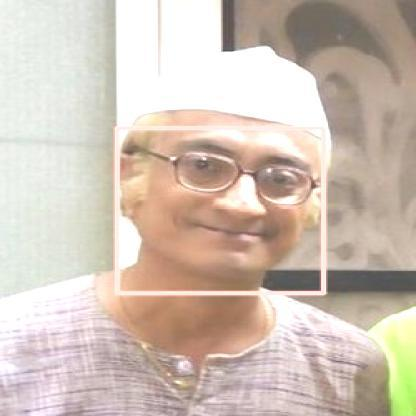without_mask: (116, 128, 323, 293)
